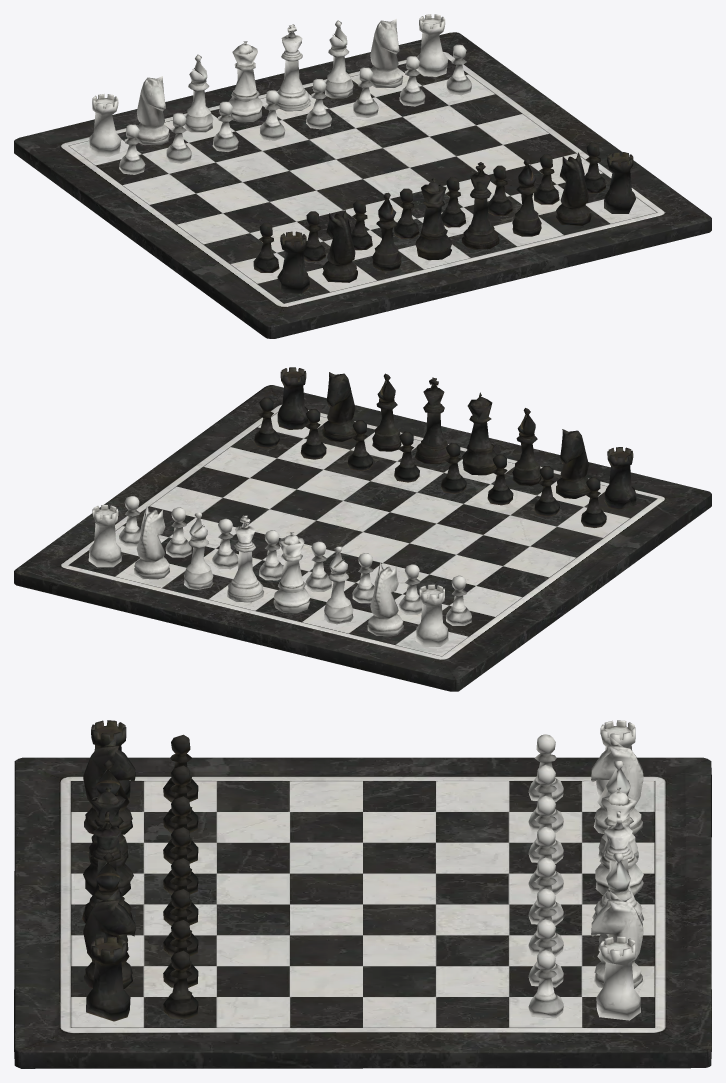
File: chess_set.glb
3 views of the same model, one above another, from view 1: azimuth 30°, elevation 25°; view 2: azimuth 150°, elevation 25°; view 3: azimuth 270°, elevation 25° (orthographic). The views are drawn at different scales.
Parts seen in each view (by area): view 1: board, piece_rook_white_01, piece_rook_black_01; view 2: board, piece_rook_white_01, piece_rook_black_01; view 3: board, piece_rook_white_01, piece_rook_black_01.
Boxes of the visible parts, x1,y1,x2,y2 form: board: (14, 32, 711, 338); piece_rook_white_01: (88, 14, 471, 174); piece_rook_black_01: (253, 143, 635, 293); board: (14, 385, 711, 691); piece_rook_white_01: (88, 496, 471, 646); piece_rook_black_01: (254, 367, 636, 527); board: (14, 757, 711, 1068); piece_rook_white_01: (528, 720, 643, 1020); piece_rook_black_01: (82, 720, 198, 1021).
Size of the model in its own units: 0.5532 by 0.1121 by 0.5532.
3 materials, 3 textured.
